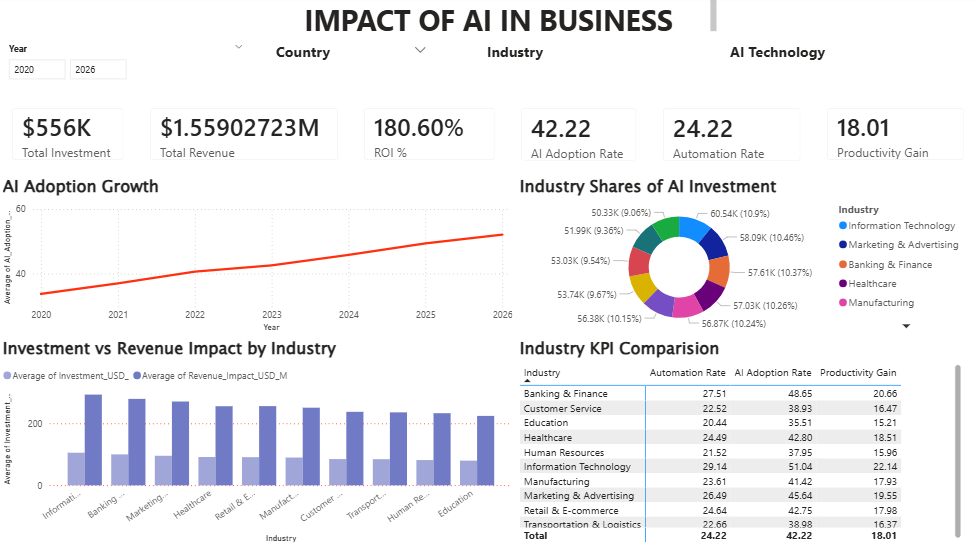

The page's visual inventory and layout, read from the dashboard file:
{"tool":"powerbi","page":{"name":"Executive Overview","canvas":[1280,720],"ordinal":0},"visuals":[{"type":"cardVisual","fields":{"Data":["AI_Impact_Data.Total Investment"]},"box":[0,129.6,180,102.2],"z":0},{"type":"cardVisual","fields":{"Data":["AI_Impact_Data.Total Revenue"]},"box":[180,129.6,280.8,102.2],"z":1000},{"type":"cardVisual","fields":{"Data":["AI_Impact_Data.ROI %"]},"box":[460.8,129.6,205.9,102.2],"z":2000},{"type":"cardVisual","title":"Average AI Adoption","fields":{"Data":["AI_Impact_Data.Avg AI Adoption"]},"box":[666.7,129.6,185.8,103.7],"z":3000},{"type":"cardVisual","fields":{"Data":["AI_Impact_Data.Avg Productivity Gain"]},"box":[1067,129.6,213.1,102.2],"z":4000},{"type":"cardVisual","fields":{"Data":["AI_Impact_Data.Avg Automation Rate"]},"box":[852.5,129.6,214.6,103.7],"z":5000},{"type":"textbox","box":[344.2,0,600.5,54.7],"z":6000},{"type":"lineChart","title":"AI Adoption Growth","fields":{"Category":["AI_Impact_Data.Year"],"Y":["Avg(AI_Impact_Data.AI_Adoption_Pct)"]},"box":[0,233.5,677,211.7],"z":7000},{"type":"clusteredColumnChart","title":"Investment vs Revenue Impact by Industry","fields":{"Category":["AI_Impact_Data.Industry"],"Y":["Avg(AI_Impact_Data.Investment_USD_)","Avg(AI_Impact_Data.Revenue_Impact_USD_M)"]},"box":[0,445.1,677,275.5],"z":8000},{"type":"donutChart","title":"Industry Shares of AI Investment","fields":{"Category":["AI_Impact_Data.Industry"],"Y":["Sum(AI_Impact_Data.Investment_USD_)"]},"box":[677,233.5,603,211.7],"z":9000},{"type":"pivotTable","title":"Industry KPI Comparision","fields":{"Rows":["AI_Impact_Data.Industry"],"Values":["AI_Impact_Data.Avg Automation Rate","AI_Impact_Data.Avg AI Adoption","AI_Impact_Data.Avg Productivity Gain"]},"box":[677,445.1,587.9,275.5],"z":10000},{"type":"slicer","fields":{"Values":["AI_Impact_Data.Year"]},"box":[0,54.7,331.2,74.9],"z":11000},{"type":"slicer","fields":{"Values":["AI_Impact_Data.Country"]},"box":[349.9,54.7,221.8,34.6],"z":12000},{"type":"slicer","fields":{"Values":["AI_Impact_Data.Industry"]},"box":[626.4,54.7,299.5,34.6],"z":13000},{"type":"slicer","fields":{"Values":["AI_Impact_Data.AI_Technology"]},"box":[943.2,54.7,321.1,34.6],"z":14000}]}

Visuals, with their boxes in screenshot pixels (x1, y1, x2, y2), scaled from the page's 1280x720 canvas onto the 977x545 screenshot:
cardVisual - AI_Impact_Data.Total Investment: pyautogui.locateOnScreen(0, 98, 137, 175)
cardVisual - AI_Impact_Data.Total Revenue: pyautogui.locateOnScreen(137, 98, 352, 175)
cardVisual - AI_Impact_Data.ROI %: pyautogui.locateOnScreen(352, 98, 509, 175)
"Average AI Adoption" cardVisual: pyautogui.locateOnScreen(509, 98, 651, 177)
cardVisual - AI_Impact_Data.Avg Productivity Gain: pyautogui.locateOnScreen(814, 98, 976, 175)
cardVisual - AI_Impact_Data.Avg Automation Rate: pyautogui.locateOnScreen(651, 98, 814, 177)
textbox: pyautogui.locateOnScreen(263, 0, 721, 41)
"AI Adoption Growth" lineChart: pyautogui.locateOnScreen(0, 177, 517, 337)
"Investment vs Revenue Impact by Industry" clusteredColumnChart: pyautogui.locateOnScreen(0, 337, 517, 544)
"Industry Shares of AI Investment" donutChart: pyautogui.locateOnScreen(517, 177, 976, 337)
"Industry KPI Comparision" pivotTable: pyautogui.locateOnScreen(517, 337, 965, 544)
slicer - AI_Impact_Data.Year: pyautogui.locateOnScreen(0, 41, 253, 98)
slicer - AI_Impact_Data.Country: pyautogui.locateOnScreen(267, 41, 436, 68)
slicer - AI_Impact_Data.Industry: pyautogui.locateOnScreen(478, 41, 707, 68)
slicer - AI_Impact_Data.AI_Technology: pyautogui.locateOnScreen(720, 41, 965, 68)
